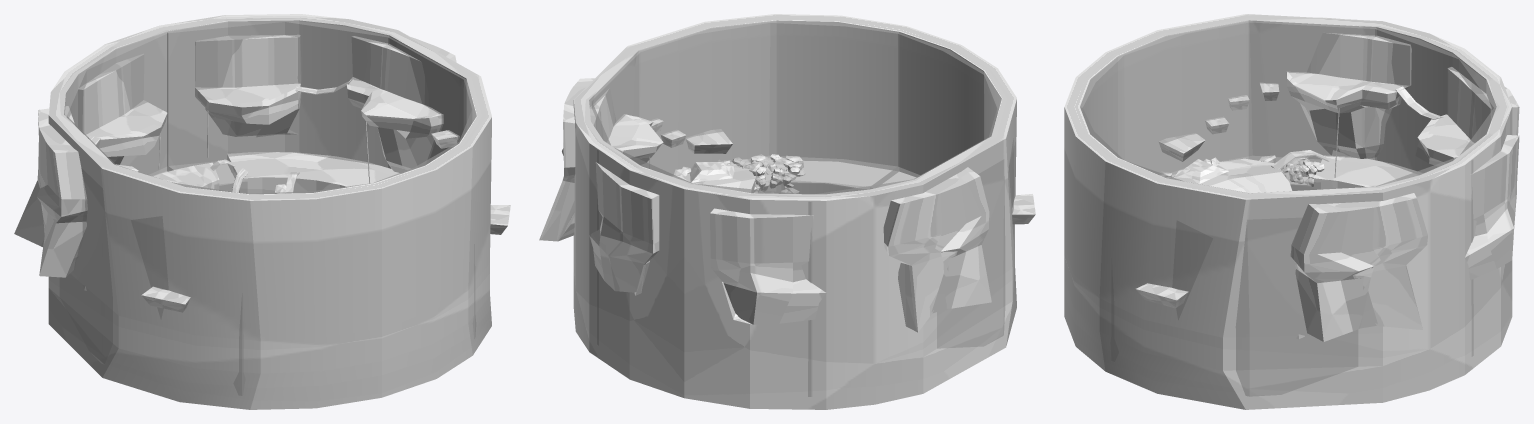
Rendered from LevelDesign_new_02..fbx.
The picture shows the model from 3 angles, left to right: view 1: azimuth 30°, elevation 25°; view 2: azimuth 150°, elevation 25°; view 3: azimuth 270°, elevation 25°; orthographic projection.
Visible parts, largest first — view 1: polySurface824, polySurface822, polySurface784, polySurface790, polySurface785, polySurface797, polySurface795, polySurface798; view 2: polySurface824, polySurface822, polySurface790, polySurface780, polySurface786, polySurface798; view 3: polySurface824, polySurface822, polySurface792, polySurface796, polySurface802, polySurface797, polySurface798, polySurface786, polySurface819.
Part boxes in pixels (bbox=[...]): polySurface824: bbox=[14, 14, 507, 409]; polySurface822: bbox=[60, 21, 476, 395]; polySurface784: bbox=[227, 152, 400, 186]; polySurface790: bbox=[346, 77, 441, 118]; polySurface785: bbox=[195, 83, 300, 107]; polySurface797: bbox=[85, 100, 167, 139]; polySurface795: bbox=[153, 162, 219, 187]; polySurface798: bbox=[141, 286, 190, 304]; polySurface824: bbox=[539, 14, 1035, 409]; polySurface822: bbox=[589, 21, 1013, 396]; polySurface790: bbox=[607, 114, 663, 153]; polySurface780: bbox=[672, 167, 755, 192]; polySurface786: bbox=[685, 129, 732, 145]; polySurface798: bbox=[1012, 194, 1035, 214]; polySurface824: bbox=[1064, 14, 1519, 409]; polySurface822: bbox=[1080, 21, 1496, 396]; polySurface792: bbox=[1175, 158, 1292, 193]; polySurface796: bbox=[1314, 155, 1422, 186]; polySurface802: bbox=[1287, 71, 1408, 100]; polySurface797: bbox=[1417, 114, 1474, 157]; polySurface798: bbox=[1159, 133, 1205, 153]; polySurface786: bbox=[1136, 283, 1188, 300]; polySurface819: bbox=[1395, 86, 1442, 119].
Size of the model in its own units: 77.64 by 37.58 by 71.16.
